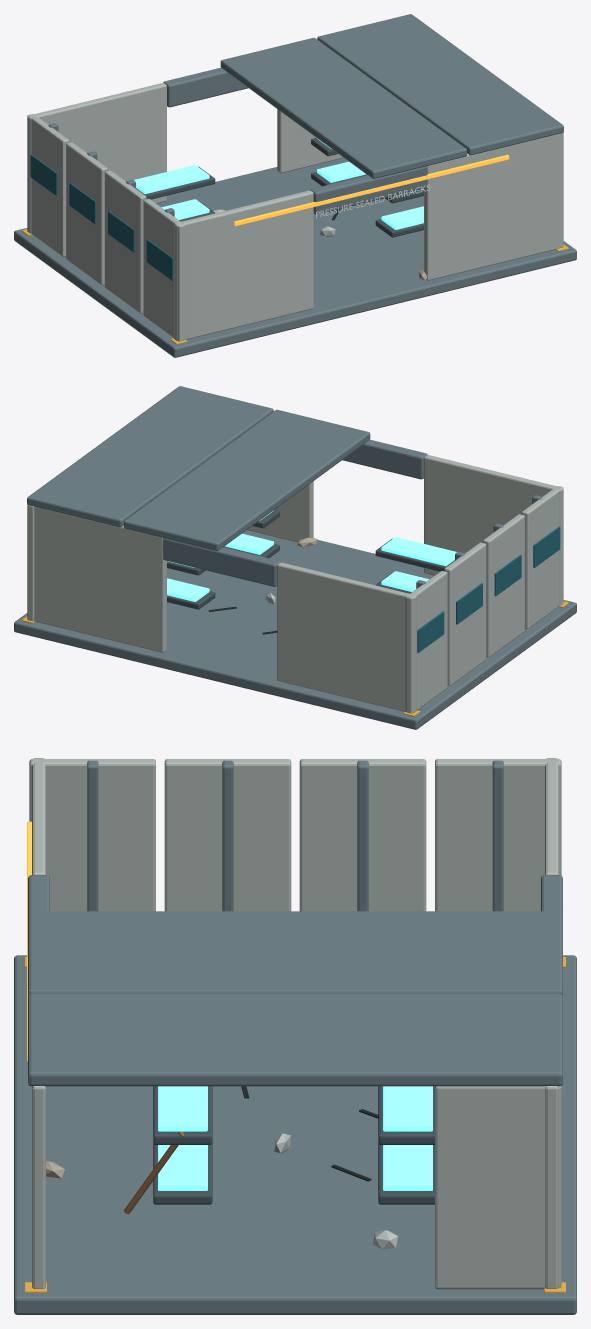
File: personnel_barracks_d2.glb
The picture shows the model from 3 angles, top to bottom: view 1: azimuth 30°, elevation 25°; view 2: azimuth 150°, elevation 25°; view 3: azimuth 270°, elevation 25°; orthographic projection. The views are drawn at different scales.
Visible parts, largest first — view 1: Foundation.006, Removable roof segment.018, End bulkhead.023, End bulkhead.022, Removable roof segment.019, End bulkhead.024, Side pressure panel.040, Side pressure panel.041, Side pressure panel.039, Side pressure panel.042, Door header.010, End bulkhead.025 (+12 smaller); view 2: Foundation.006, End bulkhead.024, Removable roof segment.018, End bulkhead.025, Removable roof segment.019, End bulkhead.022, Side pressure panel.041, Side pressure panel.040, Side pressure panel.042, Side pressure panel.039, Door header.011, End bulkhead.023 (+11 smaller); view 3: Foundation.006, Removable roof segment.019, Removable roof segment.018, Side pressure panel.043, Side pressure panel.040, Side pressure panel.041, Side pressure panel.042, Side pressure panel.039, End bulkhead.023, End bulkhead.025, Sleeping pad.022, Sleeping pad.021 (+14 smaller).
Part boxes in pixels (<box>): Foundation.006: <box>14,158,576,357</box>; Removable roof segment.018: <box>220,37,466,178</box>; End bulkhead.023: <box>424,132,563,280</box>; End bulkhead.022: <box>174,190,313,341</box>; Removable roof segment.019: <box>317,14,563,155</box>; End bulkhead.024: <box>27,83,166,233</box>; Side pressure panel.040: <box>104,170,146,313</box>; Side pressure panel.041: <box>66,142,107,285</box>; Side pressure panel.039: <box>143,199,185,341</box>; Side pressure panel.042: <box>27,114,69,257</box>; Door header.010: <box>310,166,427,214</box>; End bulkhead.025: <box>277,109,343,173</box>; Foundation.006: <box>14,530,576,729</box>; End bulkhead.024: <box>277,562,416,713</box>; Removable roof segment.018: <box>124,409,370,550</box>; End bulkhead.025: <box>34,506,166,652</box>; Removable roof segment.019: <box>27,386,273,527</box>; End bulkhead.022: <box>424,455,563,605</box>; Side pressure panel.041: <box>444,542,486,685</box>; Side pressure panel.040: <box>483,514,524,657</box>; Side pressure panel.042: <box>405,571,447,713</box>; Side pressure panel.039: <box>521,486,563,629</box>; Door header.011: <box>163,538,280,586</box>; End bulkhead.023: <box>247,481,313,542</box>; Foundation.006: <box>14,955,576,1314</box>; Removable roof segment.019: <box>28,993,562,1086</box>; Removable roof segment.018: <box>28,911,562,996</box>; Side pressure panel.043: <box>435,1086,561,1289</box>; Side pressure panel.040: <box>164,759,291,911</box>; Side pressure panel.041: <box>299,759,426,911</box>; Side pressure panel.042: <box>435,759,561,911</box>; Side pressure panel.039: <box>29,759,155,911</box>; End bulkhead.023: <box>32,1086,45,1288</box>; End bulkhead.025: <box>545,1086,558,1288</box>; Sleeping pad.022: <box>383,1145,432,1190</box>; Sleeping pad.021: <box>158,1086,207,1131</box>.
Bounding box in the file's own units: 13 × 4.15 × 9.
